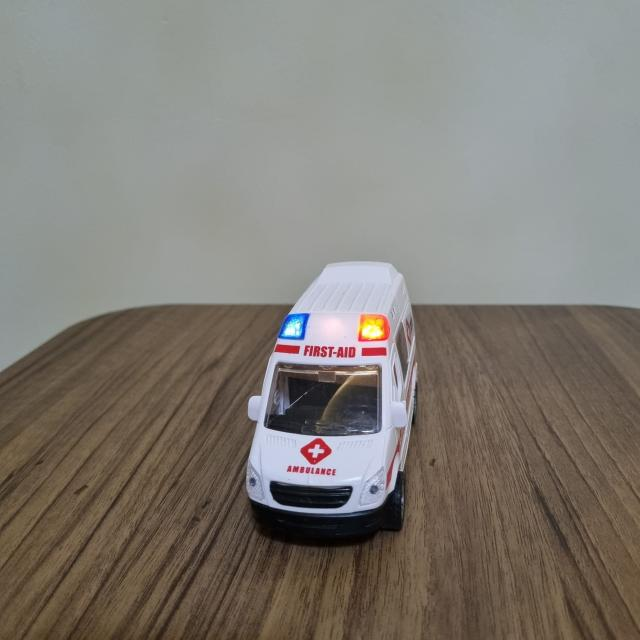emergency-vehicle: (244, 260, 419, 543)
